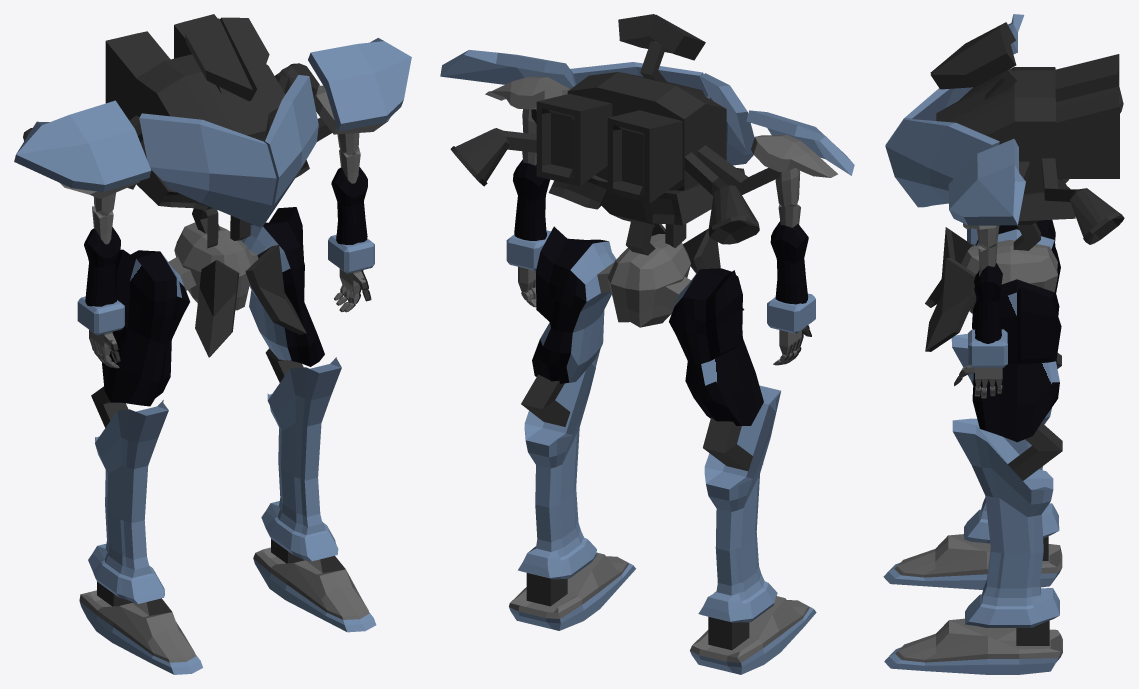
File: 3Jam_jiki_model.obj
3 views of the same model, side by side, from view 1: azimuth 30°, elevation 25°; view 2: azimuth 150°, elevation 25°; view 3: azimuth 270°, elevation 25° (orthographic). The views are drawn at different scales.
Visible parts, largest first — view 1: 立方体.011_立方体.014; view 2: 立方体.011_立方体.014; view 3: 立方体.011_立方体.014.
Boxes of the visible parts, bbox=[...] form: 立方体.011_立方体.014: bbox=[14, 14, 411, 674]; 立方体.011_立方体.014: bbox=[440, 14, 854, 674]; 立方体.011_立方体.014: bbox=[883, 14, 1124, 674].
Size of the model in its own units: 7.3 by 10.4 by 3.84.
4 materials, 1 textured.
